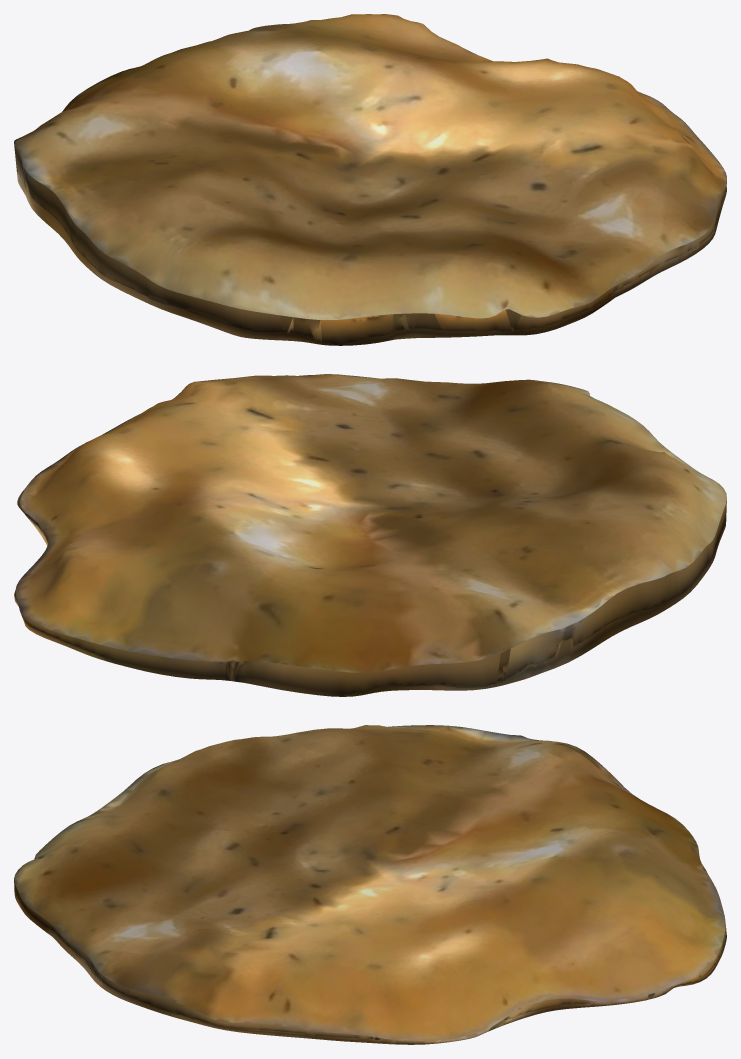
File: sauce-burger.glb
The picture shows the model from 3 angles, top to bottom: view 1: azimuth 30°, elevation 25°; view 2: azimuth 150°, elevation 25°; view 3: azimuth 270°, elevation 25°; orthographic projection. The views are drawn at different scales.
Visible parts, largest first — view 1: sauce-burger; view 2: sauce-burger; view 3: sauce-burger.
Boxes of the visible parts, box(x1,y1,x2,y2) form: sauce-burger: box(14, 14, 726, 345); sauce-burger: box(14, 374, 726, 696); sauce-burger: box(14, 725, 726, 1044).
Bounding box in the file's own units: 6.25 × 0.8706 × 6.69.
Materials: 1 (1 with a texture image).
